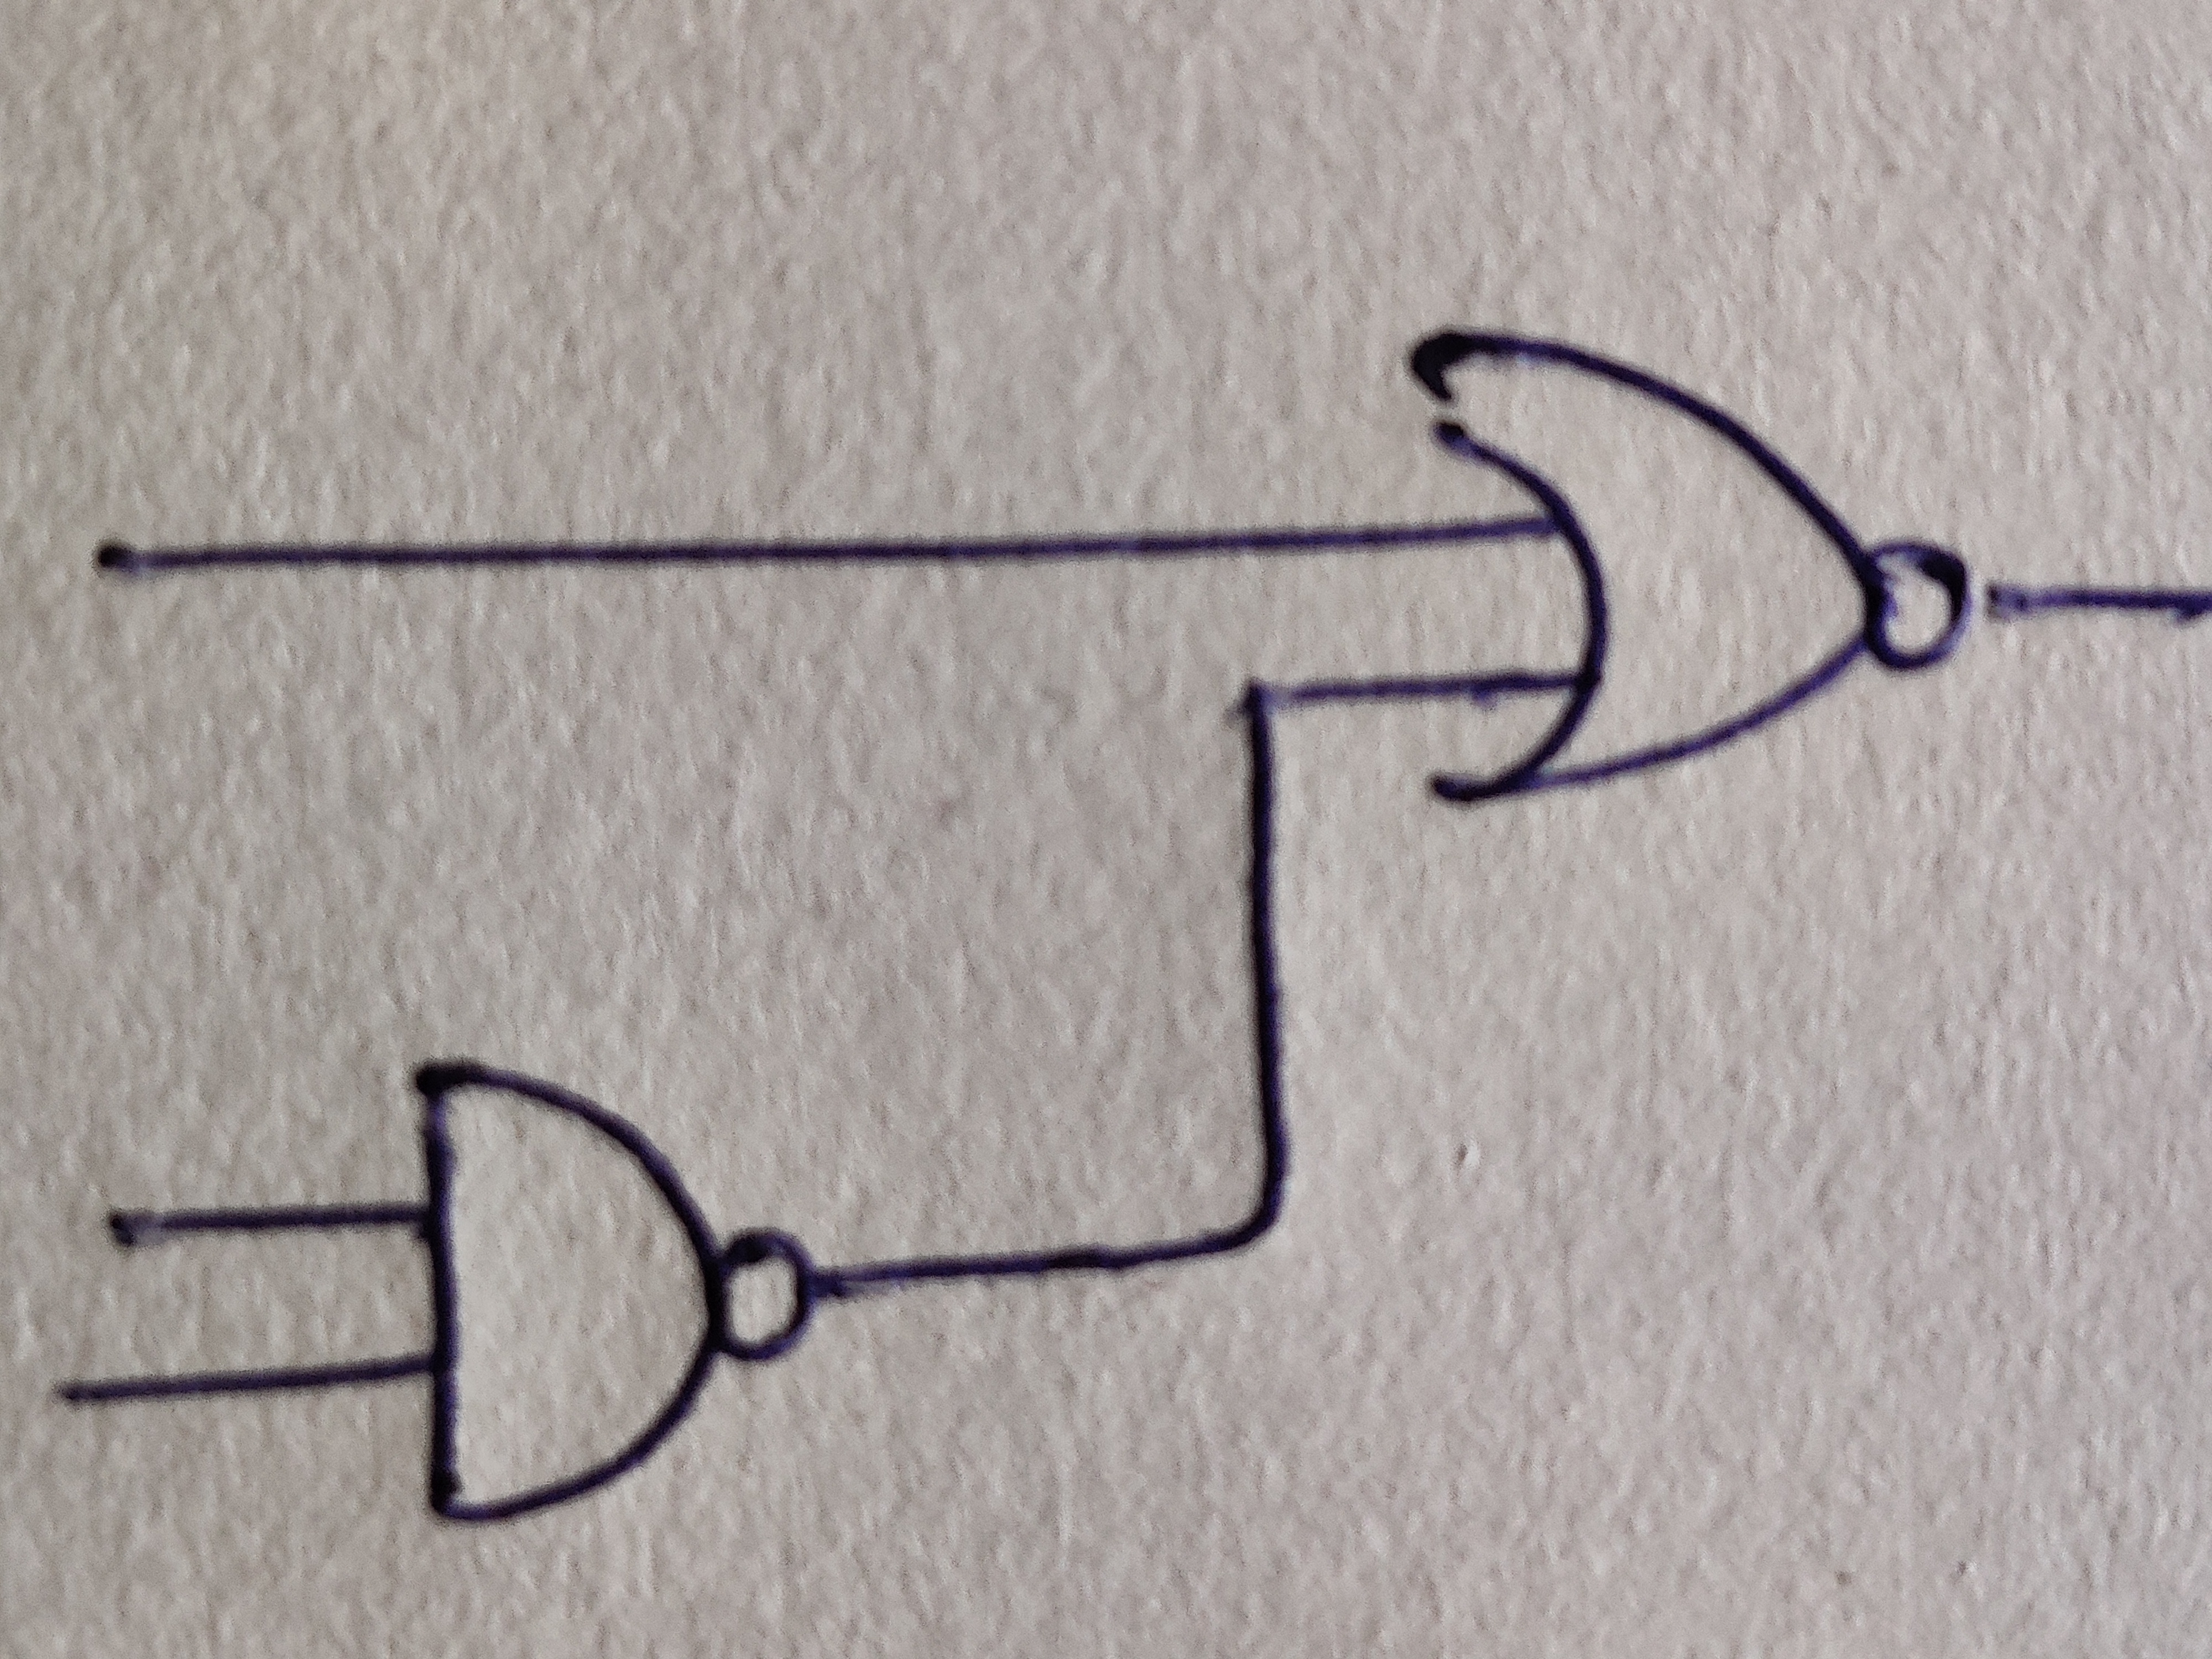and: (415, 1058, 719, 1527)
not: (709, 1230, 813, 1364), (1865, 540, 1968, 669)
or: (1411, 335, 1874, 802)
